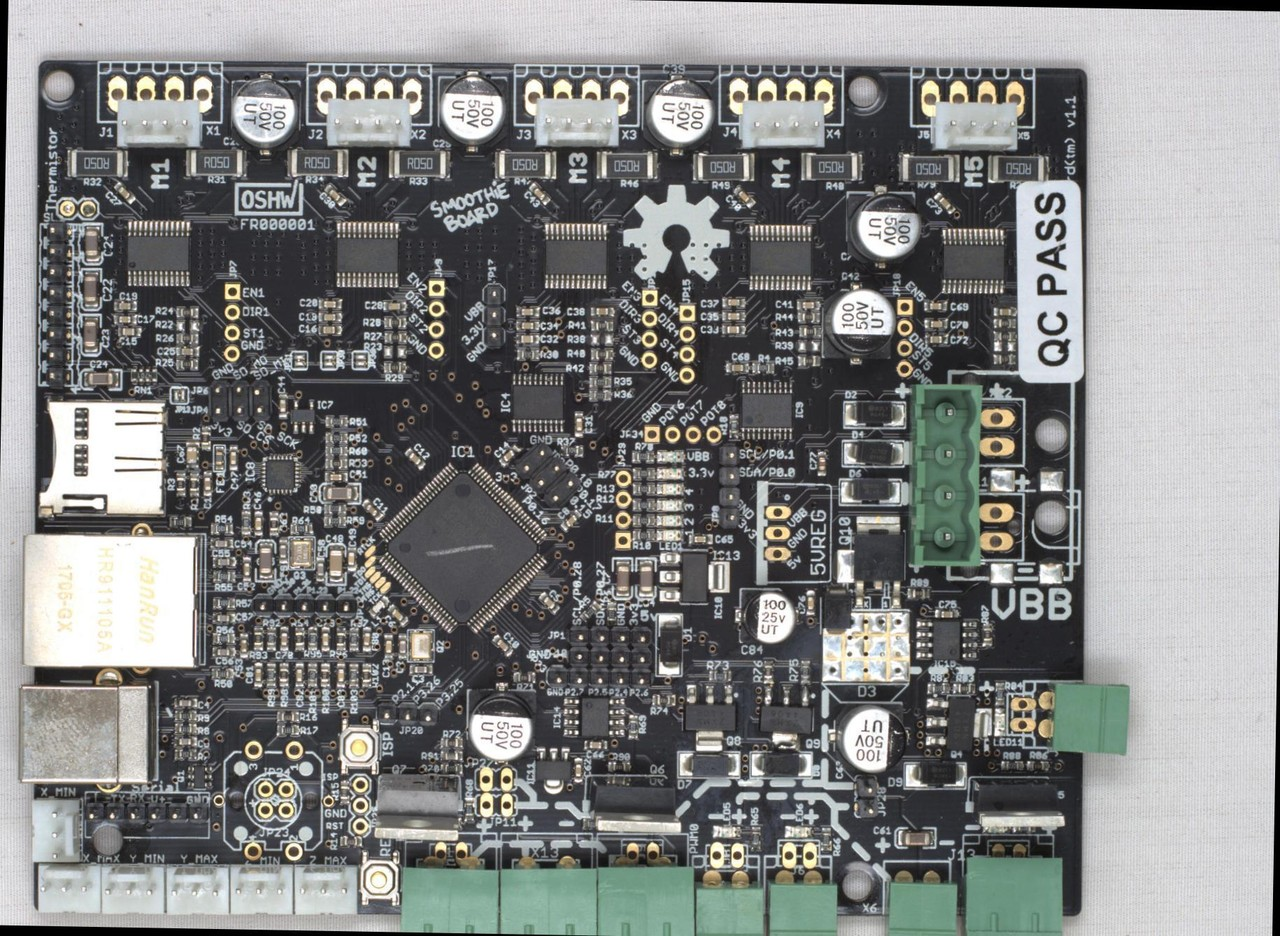Capacitor: (841, 183, 922, 268), (820, 281, 897, 364), (227, 70, 302, 155), (639, 74, 716, 155), (826, 702, 910, 774), (464, 681, 534, 766), (437, 68, 506, 153), (732, 586, 795, 645), (253, 538, 276, 583), (324, 541, 347, 586), (78, 313, 102, 356), (78, 367, 122, 390), (318, 481, 362, 504), (895, 826, 939, 849), (610, 556, 632, 601), (79, 266, 101, 311), (634, 556, 657, 599), (81, 221, 103, 265), (322, 182, 347, 207), (559, 507, 583, 532), (361, 497, 384, 523), (497, 443, 521, 467), (527, 180, 550, 205), (732, 184, 755, 209), (403, 446, 426, 470), (932, 191, 955, 215), (113, 180, 136, 204), (490, 633, 513, 656), (538, 591, 560, 614), (185, 441, 199, 467), (173, 696, 197, 709), (721, 296, 745, 309), (721, 309, 745, 322), (723, 360, 748, 372), (795, 298, 820, 310), (113, 312, 136, 325), (515, 332, 539, 344), (117, 325, 141, 337), (175, 344, 199, 356), (324, 470, 348, 482), (317, 297, 341, 309), (515, 306, 539, 318), (923, 316, 947, 328), (721, 322, 745, 334), (318, 322, 341, 334), (688, 532, 711, 544), (211, 611, 234, 623), (383, 299, 406, 311), (113, 299, 136, 311), (515, 319, 538, 331), (589, 305, 614, 316), (573, 410, 583, 437), (924, 333, 948, 344), (408, 663, 432, 674), (241, 555, 251, 581), (335, 662, 345, 688), (209, 537, 232, 548), (211, 646, 234, 657), (583, 739, 606, 750), (173, 735, 196, 746), (923, 300, 946, 311), (317, 311, 340, 322), (227, 444, 237, 469), (346, 546, 356, 571), (805, 590, 815, 615), (294, 661, 304, 686), (253, 661, 263, 686), (202, 471, 212, 495), (253, 510, 263, 534), (934, 608, 958, 618), (383, 632, 392, 658), (397, 632, 406, 658), (277, 393, 286, 418), (278, 625, 287, 650), (239, 632, 248, 657), (573, 757, 582, 782), (212, 556, 234, 566), (817, 451, 826, 475), (314, 557, 323, 581), (993, 306, 1016, 315), (279, 538, 287, 563), (320, 627, 329, 649), (362, 627, 370, 650)
Connector: (18, 520, 208, 675), (16, 667, 160, 795), (34, 392, 169, 522), (905, 383, 982, 567), (961, 831, 1065, 935), (598, 840, 699, 935), (500, 841, 600, 935), (401, 840, 500, 933), (1036, 680, 1130, 755), (35, 222, 74, 388), (880, 862, 958, 935), (313, 73, 425, 117), (767, 868, 839, 935), (695, 868, 767, 935), (725, 75, 837, 118), (520, 76, 632, 118), (514, 439, 581, 507), (106, 72, 214, 114), (115, 97, 203, 148), (533, 96, 619, 148), (918, 77, 1026, 118), (929, 101, 1018, 150), (325, 97, 411, 147), (739, 99, 825, 147), (975, 490, 1025, 562), (164, 863, 230, 915), (29, 797, 82, 861), (36, 861, 101, 913), (292, 863, 357, 914), (229, 863, 294, 914), (101, 863, 164, 914), (980, 399, 1025, 469), (251, 593, 357, 618), (85, 802, 209, 823), (546, 665, 653, 688), (717, 444, 741, 528), (762, 501, 792, 563), (565, 625, 652, 646), (567, 646, 653, 667), (676, 302, 697, 385), (425, 278, 446, 360), (638, 286, 658, 369), (481, 282, 506, 348), (893, 297, 913, 378), (643, 424, 722, 444), (374, 702, 439, 726), (221, 281, 240, 362), (613, 469, 632, 550), (347, 771, 370, 837), (208, 378, 272, 400), (207, 400, 272, 420), (778, 839, 818, 868), (706, 840, 745, 869), (472, 766, 517, 791), (473, 791, 518, 816), (853, 773, 877, 818), (1009, 695, 1037, 732), (252, 799, 297, 822), (56, 196, 99, 220), (252, 777, 297, 799), (239, 839, 265, 862), (280, 841, 305, 863), (241, 738, 262, 760), (283, 739, 304, 760)
IC: (376, 462, 548, 637), (125, 216, 192, 287), (940, 226, 1006, 295), (334, 220, 399, 288), (543, 222, 609, 288), (746, 223, 811, 290), (656, 547, 728, 605), (738, 380, 794, 441), (510, 372, 564, 431), (562, 696, 625, 737), (916, 618, 977, 660), (533, 744, 571, 795), (259, 452, 301, 494), (287, 534, 315, 569), (406, 628, 434, 663), (289, 397, 313, 433)
Inductor: (367, 593, 390, 616), (211, 444, 225, 471)
Resistor: (799, 150, 862, 182), (388, 148, 451, 179), (494, 150, 557, 180), (897, 153, 959, 183), (692, 152, 754, 182), (66, 148, 127, 178), (285, 148, 348, 177), (184, 148, 247, 177), (987, 154, 1048, 183), (595, 151, 658, 179), (578, 599, 601, 623), (129, 366, 157, 384), (631, 481, 654, 495), (211, 595, 234, 609), (267, 511, 279, 536), (512, 670, 535, 683), (173, 748, 197, 760), (175, 306, 199, 318), (633, 467, 655, 480), (632, 498, 654, 511), (212, 569, 234, 582), (590, 348, 613, 360), (795, 355, 818, 367), (632, 528, 655, 540), (906, 587, 929, 599), (211, 632, 234, 644), (762, 660, 774, 683), (174, 709, 197, 721), (174, 722, 197, 734), (439, 749, 462, 761), (799, 658, 810, 683), (632, 513, 653, 526), (729, 413, 739, 440), (993, 329, 1015, 341), (383, 331, 405, 343), (589, 389, 611, 401), (325, 457, 347, 469), (709, 669, 731, 681), (278, 662, 289, 686), (650, 694, 674, 705), (339, 779, 350, 803), (175, 358, 198, 369), (560, 445, 583, 456), (289, 523, 312, 534), (276, 724, 299, 735), (440, 737, 463, 748), (797, 311, 820, 322), (383, 316, 406, 327), (516, 348, 537, 360), (201, 425, 211, 450), (348, 662, 358, 687), (266, 662, 276, 687), (750, 826, 760, 851), (798, 326, 820, 337), (175, 332, 197, 343), (992, 353, 1014, 364), (588, 362, 610, 373), (324, 416, 346, 427), (631, 451, 653, 462), (169, 516, 191, 527), (210, 523, 232, 534), (211, 668, 233, 679), (439, 763, 461, 774), (590, 320, 612, 331), (175, 472, 185, 496), (981, 622, 991, 646), (252, 625, 262, 649), (266, 627, 276, 651), (306, 661, 316, 685), (361, 662, 371, 686), (994, 681, 1004, 705), (627, 715, 637, 739), (463, 797, 473, 821), (752, 362, 773, 373), (240, 512, 251, 533), (276, 710, 297, 721), (339, 835, 360, 846), (588, 376, 611, 386), (325, 445, 348, 455), (189, 472, 199, 495), (322, 516, 345, 526), (606, 602, 616, 625), (335, 625, 345, 648), (348, 627, 358, 650), (294, 627, 304, 650), (1025, 760, 1048, 770), (1000, 760, 1023, 770), (607, 762, 630, 772), (383, 362, 405, 372), (325, 432, 347, 442), (320, 662, 329, 686), (325, 503, 346, 513), (953, 683, 974, 693), (927, 683, 948, 693), (307, 627, 316, 650), (993, 319, 1016, 328), (582, 818, 597, 829), (1012, 825, 1035, 832)
Switch: (336, 717, 379, 774), (360, 849, 400, 905)
Transistor/Diode: (831, 513, 904, 608), (372, 773, 462, 838), (583, 775, 681, 832), (966, 774, 1065, 828), (924, 694, 992, 751), (681, 683, 736, 752), (756, 683, 813, 749), (841, 439, 910, 469), (837, 478, 908, 506), (675, 749, 740, 779), (653, 612, 683, 676), (841, 400, 906, 429), (748, 750, 813, 779), (902, 761, 967, 790), (820, 584, 849, 633), (184, 763, 212, 788), (655, 449, 685, 463), (655, 481, 683, 495), (655, 497, 682, 511), (656, 466, 685, 479), (993, 708, 1006, 737), (783, 825, 812, 838), (712, 825, 741, 838), (655, 513, 683, 526), (654, 527, 681, 539), (820, 826, 831, 850), (983, 824, 1010, 832)
